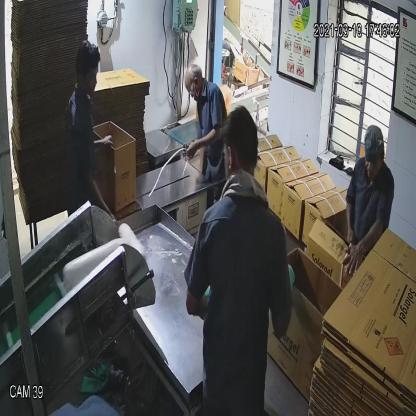no_glove: (340, 214, 390, 277), (180, 124, 225, 161)
